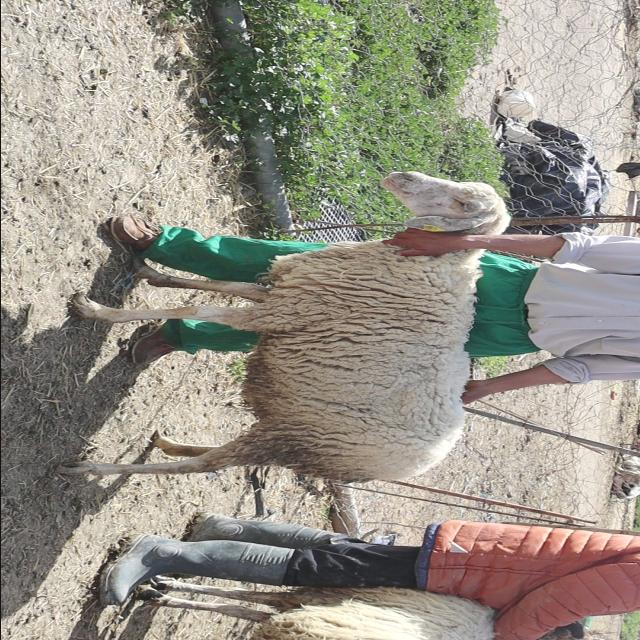Score_2: (57, 241, 482, 483)
